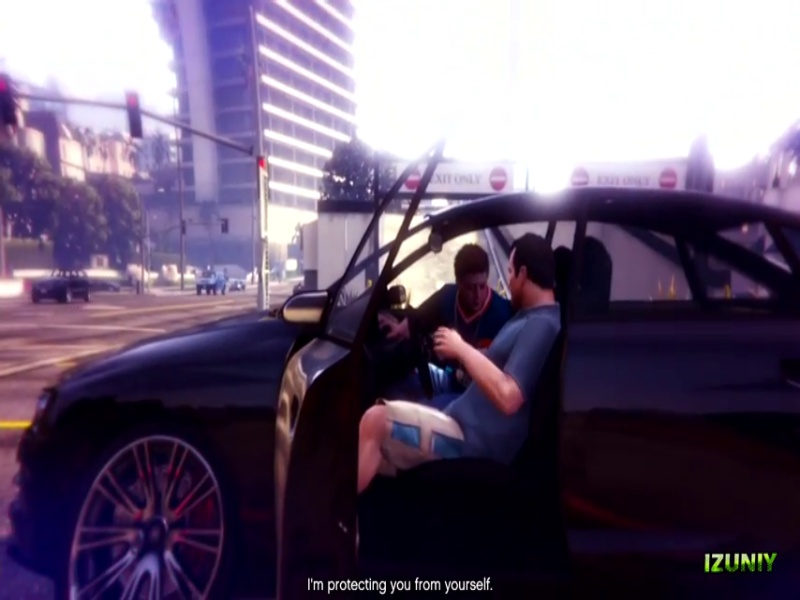human: (327, 233, 553, 568)
